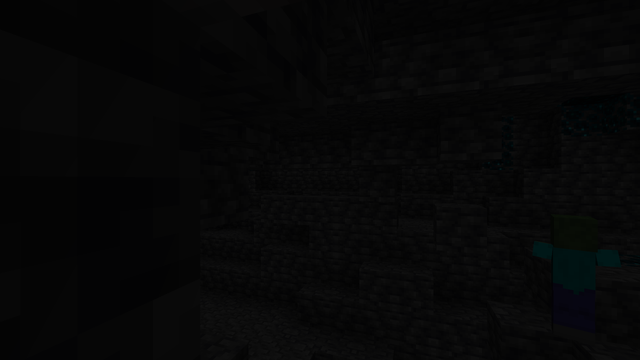zombies: (541, 216, 607, 350)
